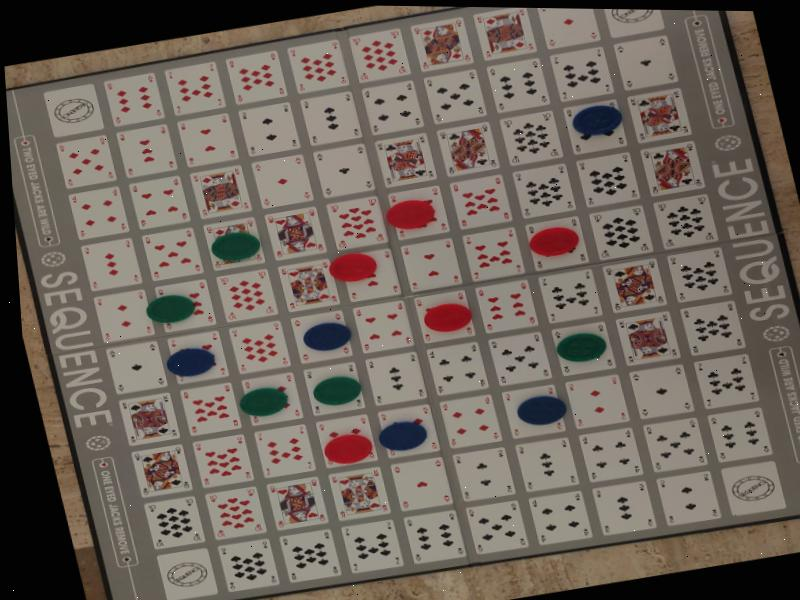Blue_Token: (508, 390, 573, 432), (294, 316, 359, 357), (157, 342, 221, 383), (372, 416, 435, 456)
Board: (0, 0, 800, 600)
Green_Token: (201, 226, 268, 268), (139, 288, 204, 329), (305, 370, 368, 412), (550, 326, 613, 368), (231, 382, 295, 422)
Red_Token: (376, 193, 441, 236), (522, 221, 586, 263), (316, 429, 378, 471), (566, 99, 629, 140), (320, 245, 381, 287), (417, 297, 479, 338)
